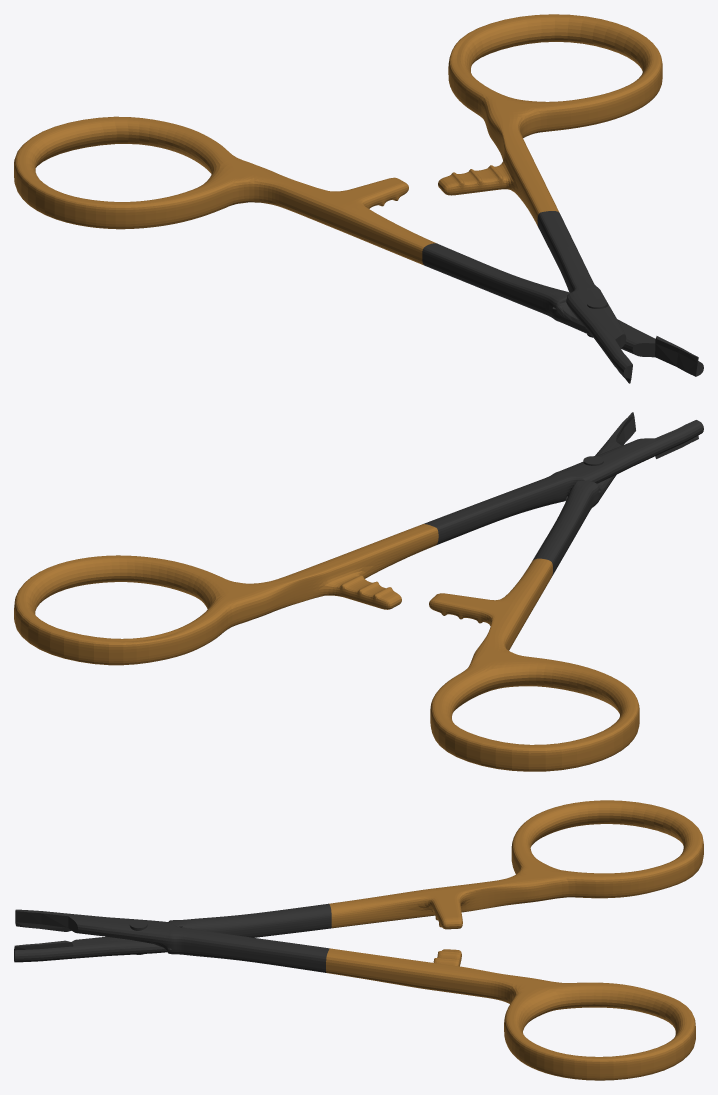
The model's file is Mayo Hegar Needle Driver 1.fbx.
The picture shows the model from 3 angles, top to bottom: view 1: azimuth 30°, elevation 25°; view 2: azimuth 150°, elevation 25°; view 3: azimuth 270°, elevation 25°; orthographic projection. The views are drawn at different scales.
Parts seen in each view (by area): view 1: Object; view 2: Object; view 3: Object.
Part boxes in pixels (x1,y1,x2,y2): Object: (14, 14, 703, 383); Object: (14, 412, 703, 771); Object: (14, 800, 703, 1080).
Size of the model in its own units: 62.96 by 3 by 69.95.
